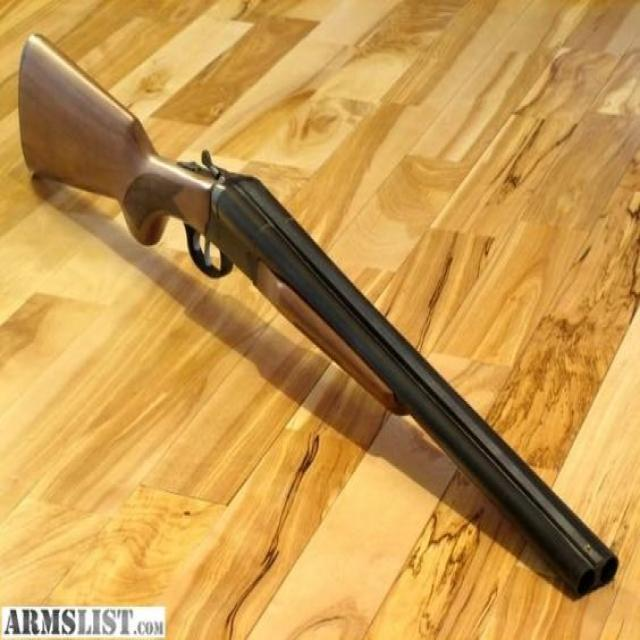shotgun: (20, 22, 627, 609)
